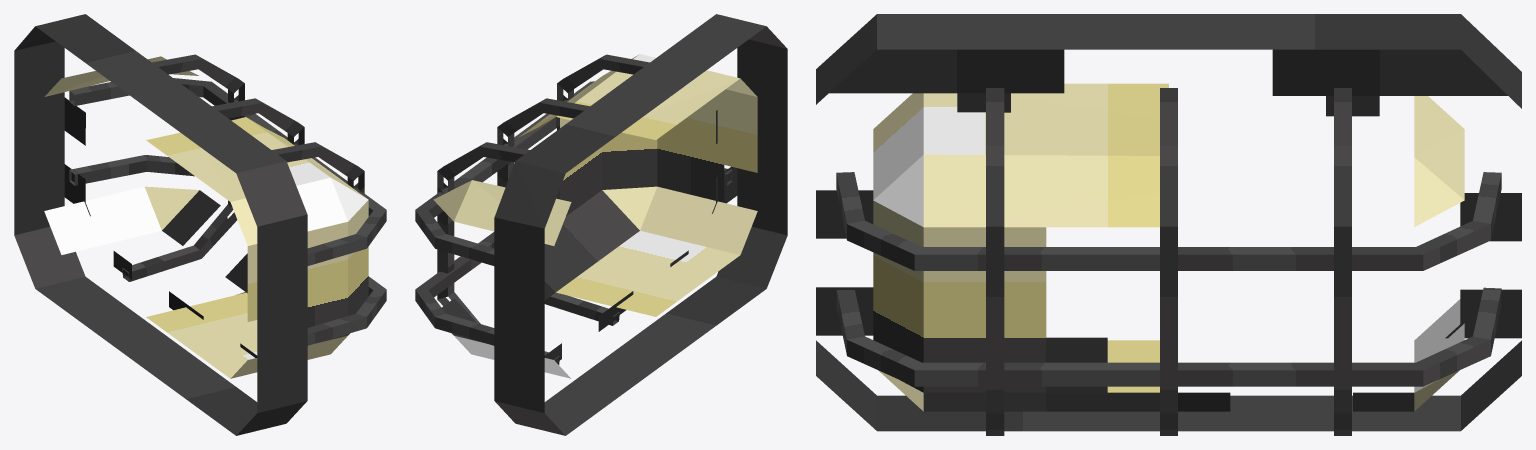
File: cage_lamp.obj
3 renders of one model, left to right at view 1: azimuth 30°, elevation 25°; view 2: azimuth 150°, elevation 25°; view 3: azimuth 270°, elevation 25°, orthographic. The views are drawn at different scales.
Visible parts, largest first — view 1: CageLamp; view 2: CageLamp; view 3: CageLamp.
Boxes of the visible parts, box(x1,y1,x2,y2) form: CageLamp: box(14, 14, 386, 435); CageLamp: box(415, 14, 787, 435); CageLamp: box(816, 14, 1521, 435).
Bounding box in the file's own units: 0.1921 × 0.2905 × 0.4872.
